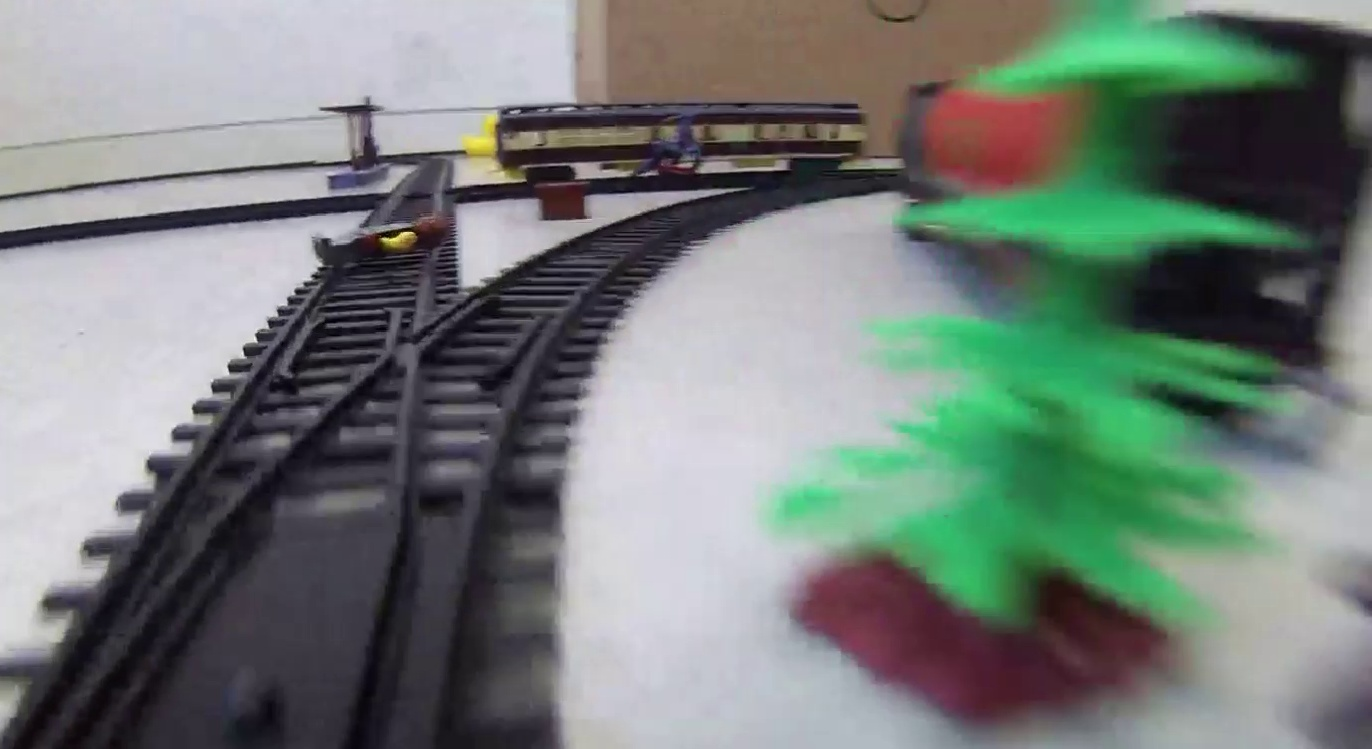box: (535, 179, 589, 222)
people: (312, 210, 460, 265)
